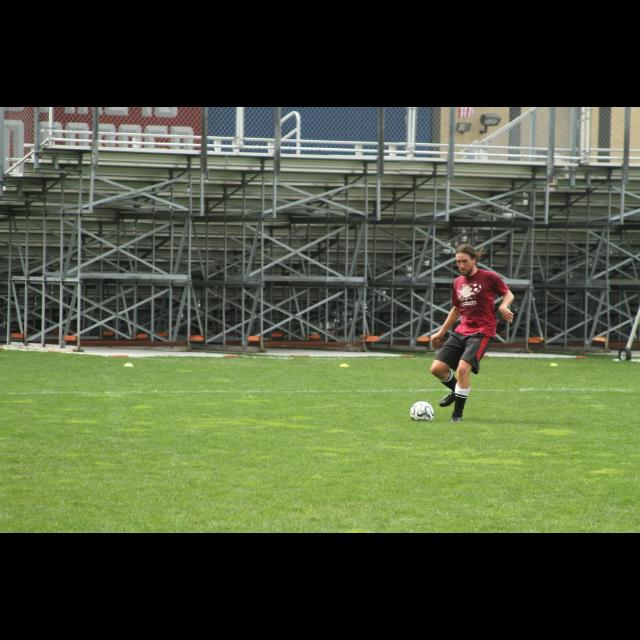Football: (408, 402, 434, 422)
